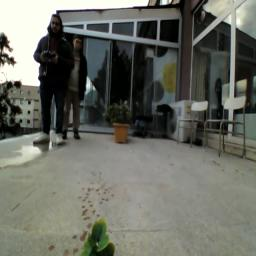herb: (79, 221, 118, 256)
